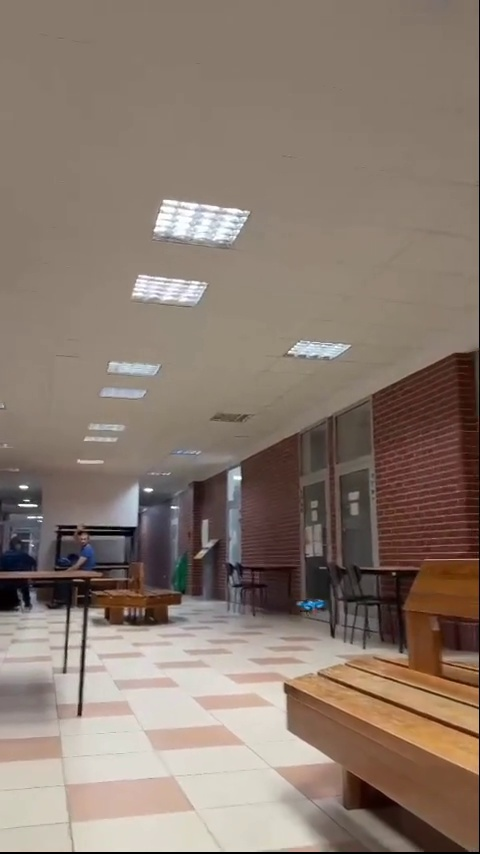drone: (294, 598, 328, 614)
no vest: (3, 531, 44, 599), (57, 522, 97, 588)
